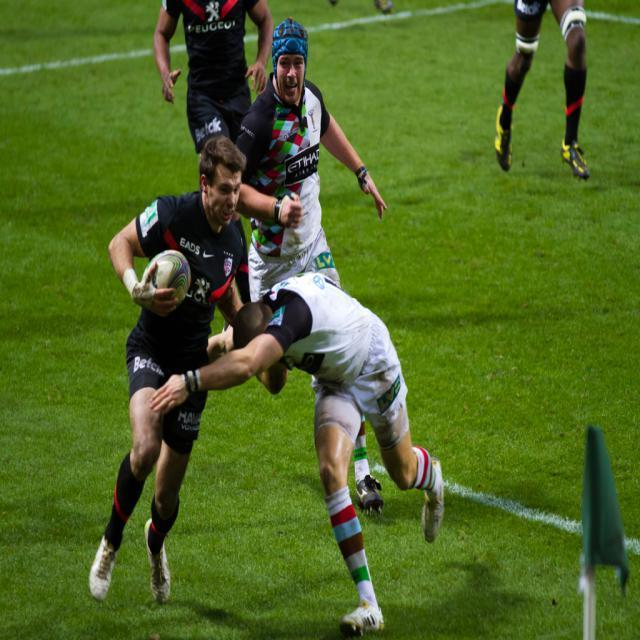football: (139, 251, 193, 307)
